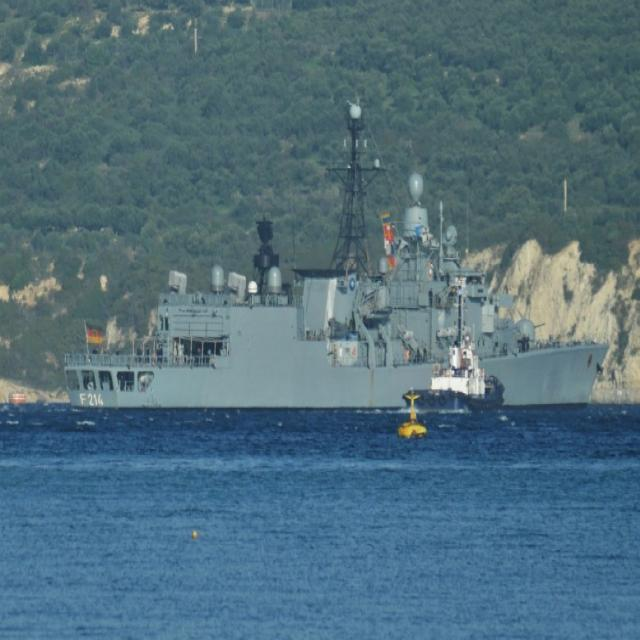Fragata: (57, 105, 615, 417)
